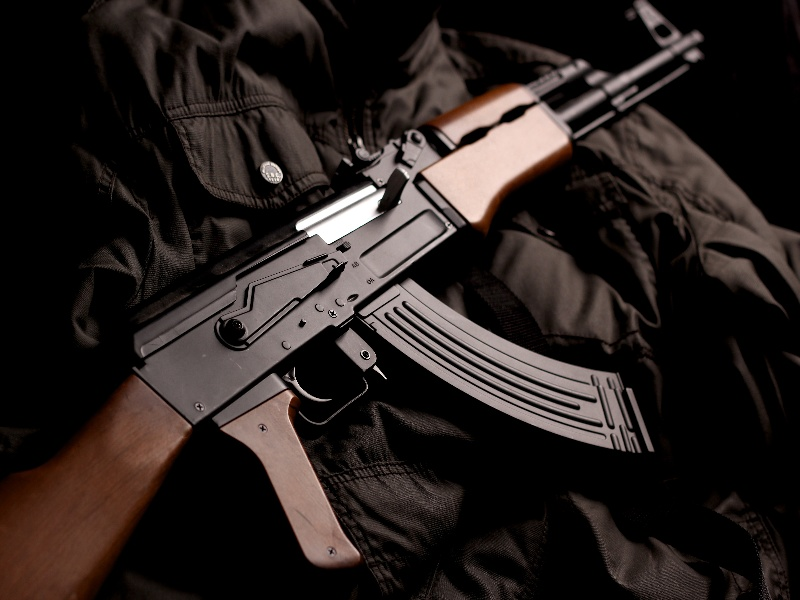weapon: (1, 1, 704, 600)
